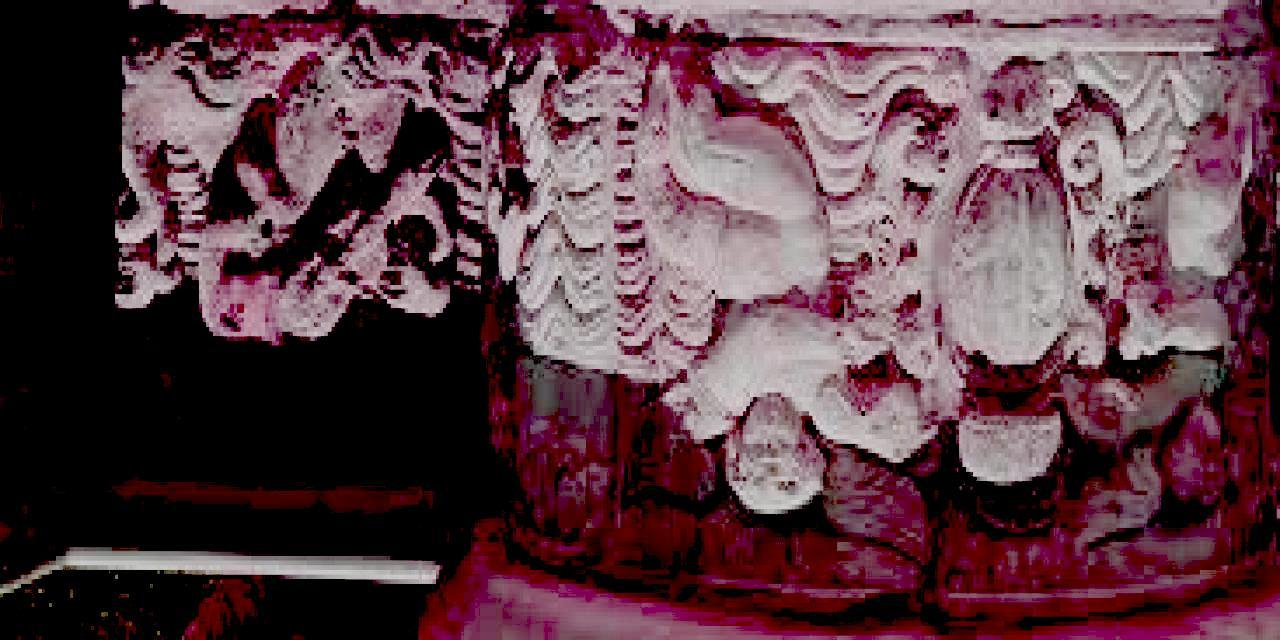Liontaria: (21, 1, 1269, 605)
